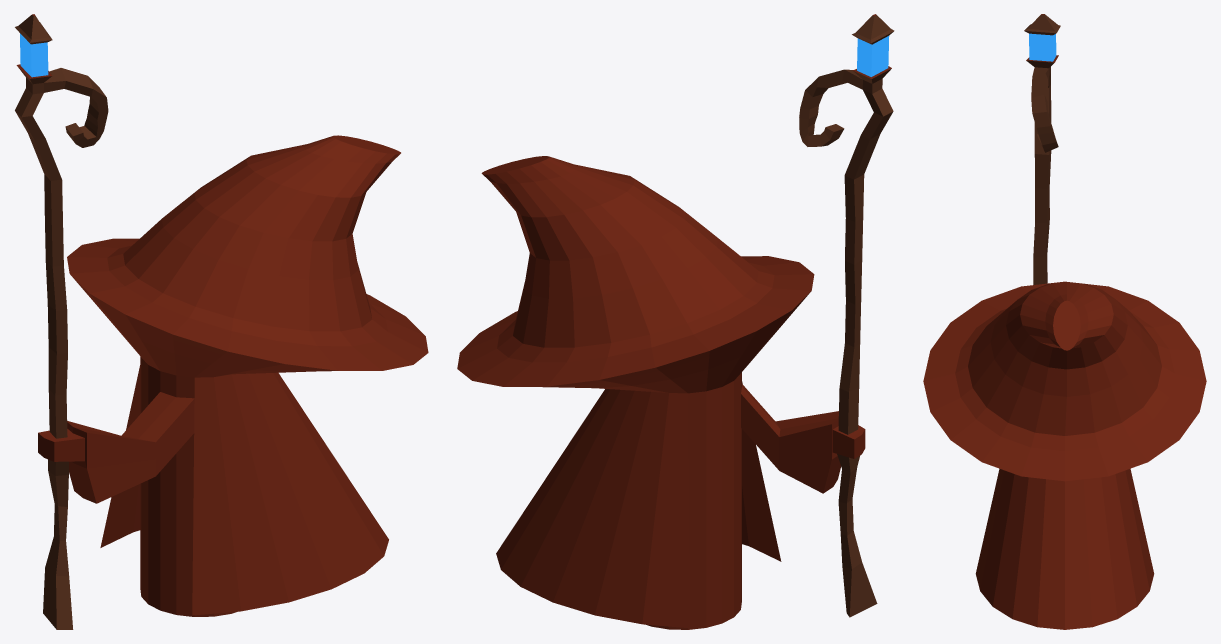
Rendered from wizard.gltf.
3 views of the same model, side by side, from view 1: azimuth 30°, elevation 25°; view 2: azimuth 150°, elevation 25°; view 3: azimuth 270°, elevation 25° (orthographic). The views are drawn at different scales.
Visible parts, largest first — view 1: Wizard; view 2: Wizard; view 3: Wizard.
Boxes of the visible parts, x1,y1,x2,y2 form: Wizard: (15, 14, 428, 629); Wizard: (457, 14, 894, 629); Wizard: (923, 14, 1206, 629).
Bounding box in the file's own units: 12.12 × 18.18 × 9.41.
